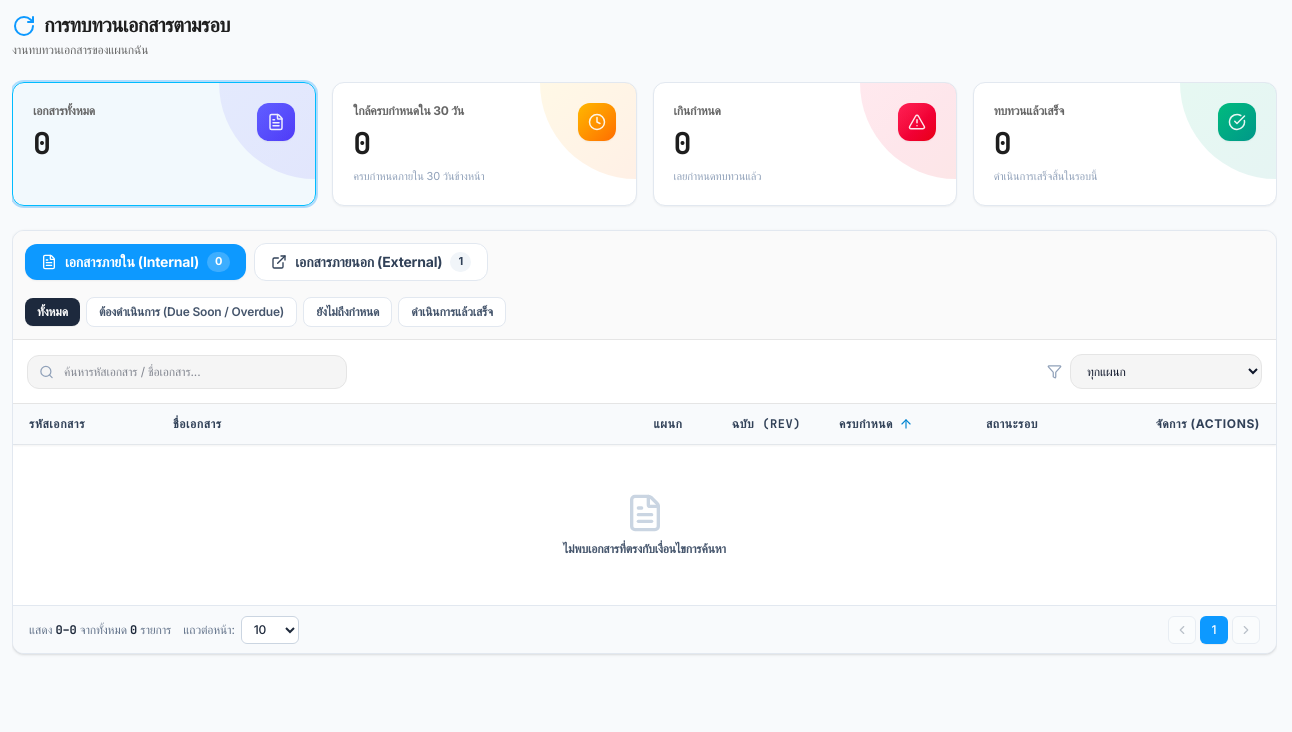
Scenario: Periodic Review Status Badge Contradiction & Action Button Layout Optimization › Criterion 1 & 2: A document with pending REVISION_REQUIRED outcome displays "รออัปเดตฉบับใหม่" (overriding "ยังไม่ถึงกำหนด") and compact action group (text butt
Click the button "เอกสารภายนอก (External) 1": (371, 262) [254,243,488,281]
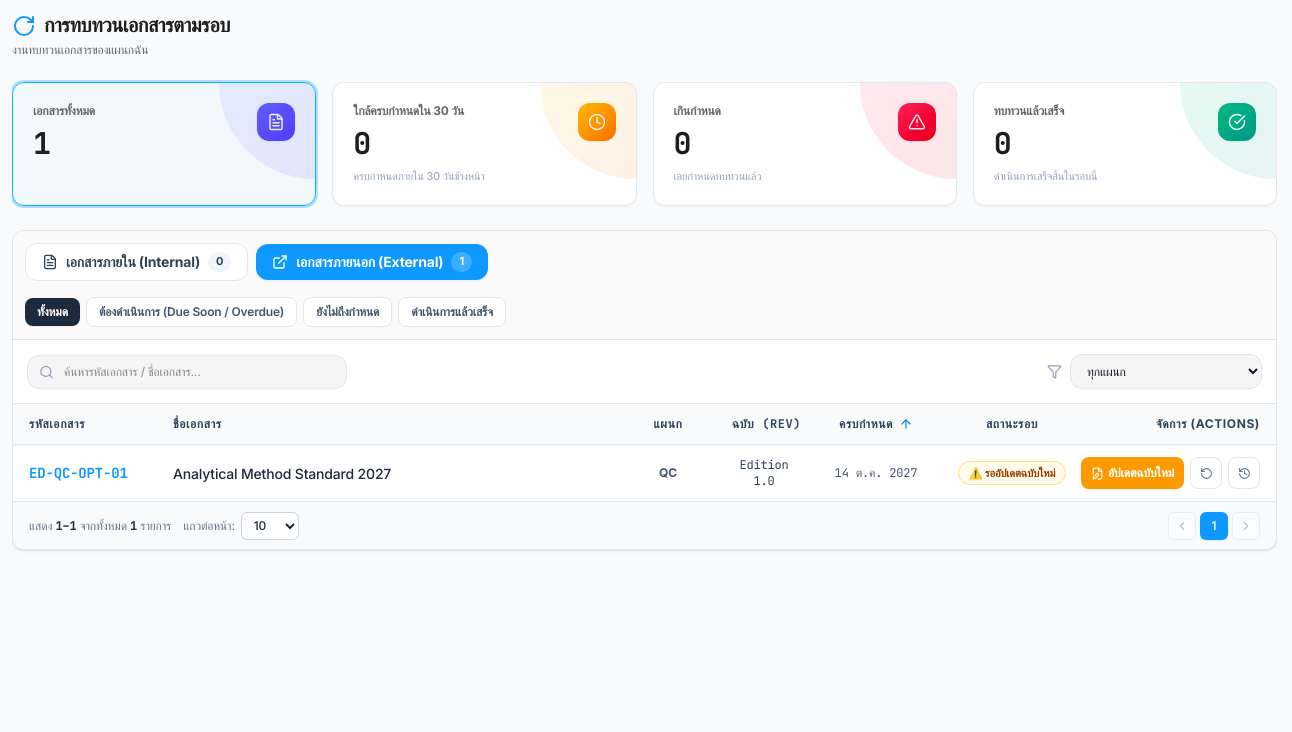
Check: the row that starts with "ED-QC-OPT-01" is shown, box [13,445,1276,501]
Check: the text "⚠️ รออัปเดตฉบับใหม่" is shown, box [958,461,1066,485]
Check: the button "อัปเดตฉบับใหม่" is shown, box [1081,457,1184,489]
